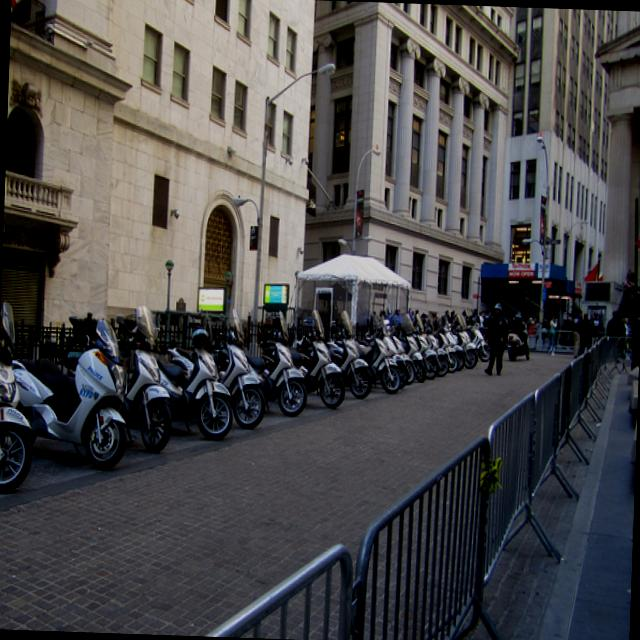Vehicle: (190, 300, 526, 392), (9, 314, 130, 462), (164, 306, 270, 428), (114, 304, 178, 453), (260, 305, 350, 407), (0, 296, 42, 497), (156, 339, 233, 444), (248, 308, 308, 417), (336, 310, 376, 402), (351, 334, 402, 392), (412, 313, 441, 378), (398, 328, 427, 383), (390, 336, 414, 384), (434, 332, 458, 372)
